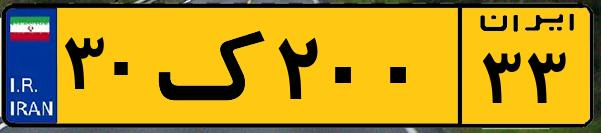0: (385, 28, 445, 110), (330, 28, 385, 110), (110, 28, 158, 98)
2: (270, 28, 330, 110)
3: (57, 26, 110, 100), (475, 38, 525, 113), (525, 38, 570, 115)
ک: (158, 12, 270, 120)
